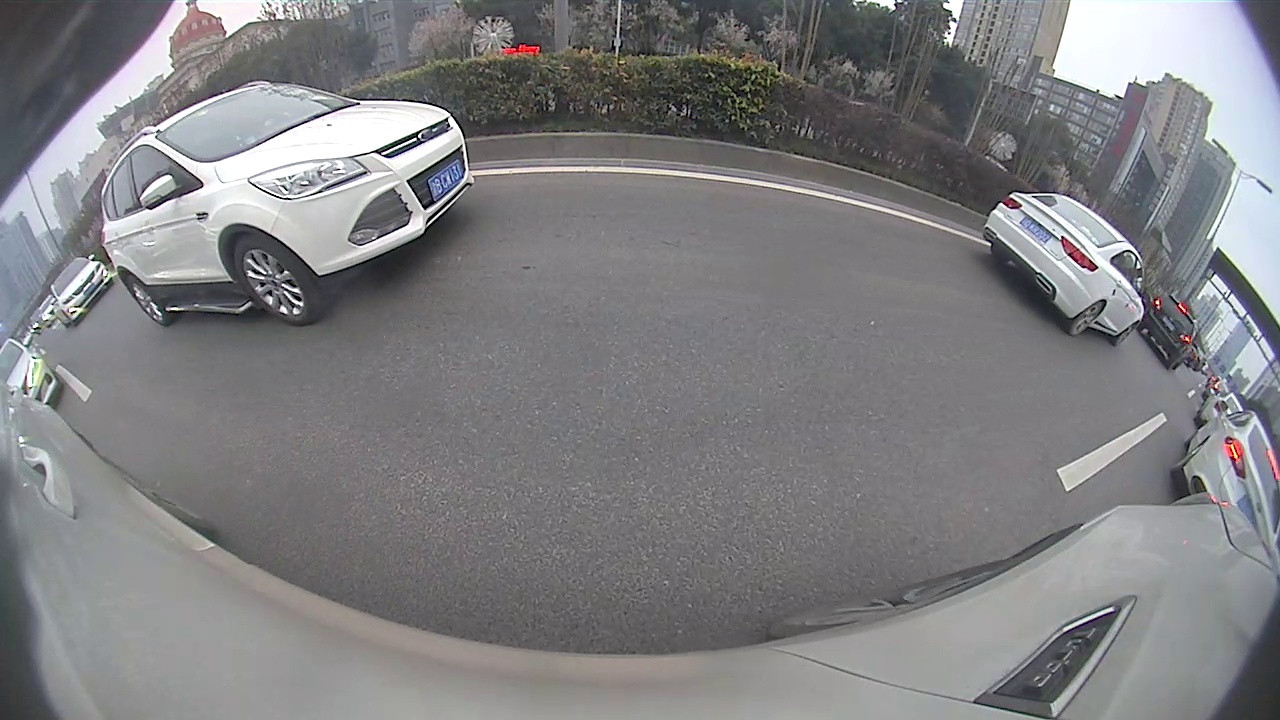car: (98, 80, 478, 328), (980, 189, 1154, 347), (1171, 401, 1278, 547), (48, 253, 115, 328), (1143, 293, 1202, 371), (2, 336, 64, 410)
front: (235, 238, 316, 325), (1114, 323, 1136, 347)
rear: (125, 273, 172, 327), (1067, 301, 1106, 336)
